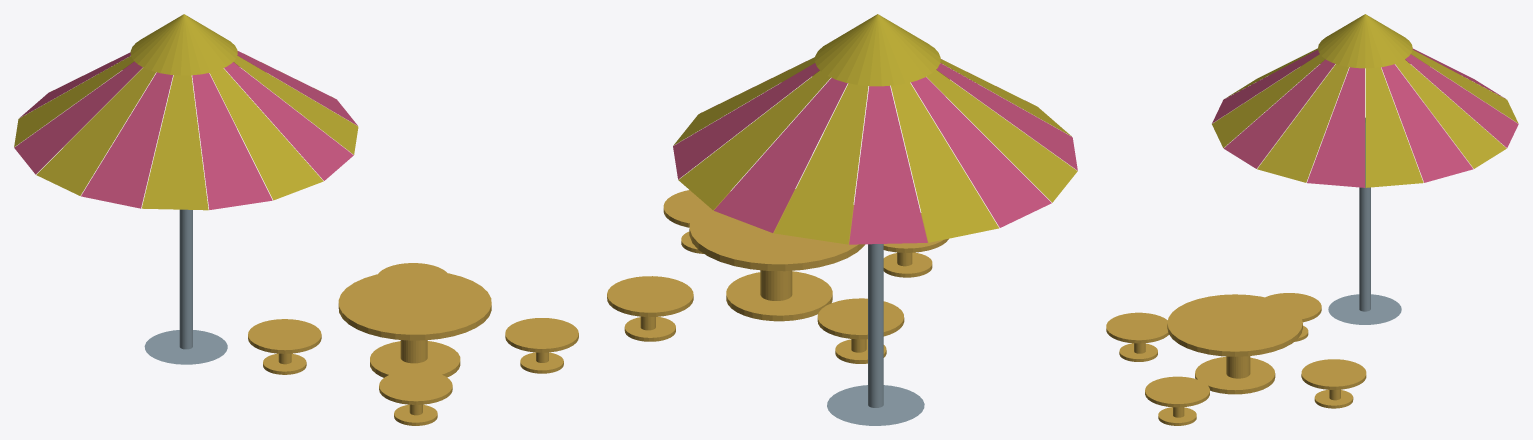
File: Stoliki_2.fbx
3 views of the same model, side by side, from view 1: azimuth 30°, elevation 25°; view 2: azimuth 150°, elevation 25°; view 3: azimuth 270°, elevation 25° (orthographic). The views are drawn at different scales.
Visible parts, largest first — view 1: Конус.001; view 2: Конус.001; view 3: Конус.001.
Boxes of the visible parts, box(x1,y1,x2,y2) form: Конус.001: box(14, 14, 578, 425); Конус.001: box(607, 14, 1077, 425); Конус.001: box(1106, 14, 1518, 425).
Bounding box in the file's own units: 76.48 × 56.62 × 71.59.
